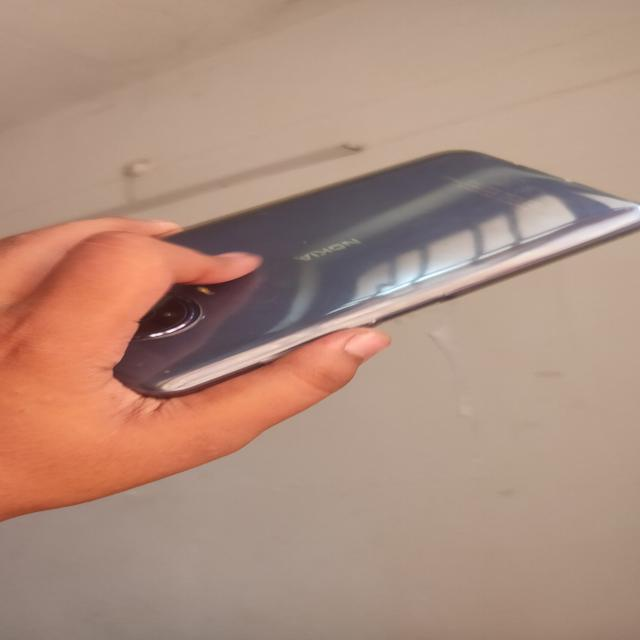Phone: (110, 146, 640, 398)
